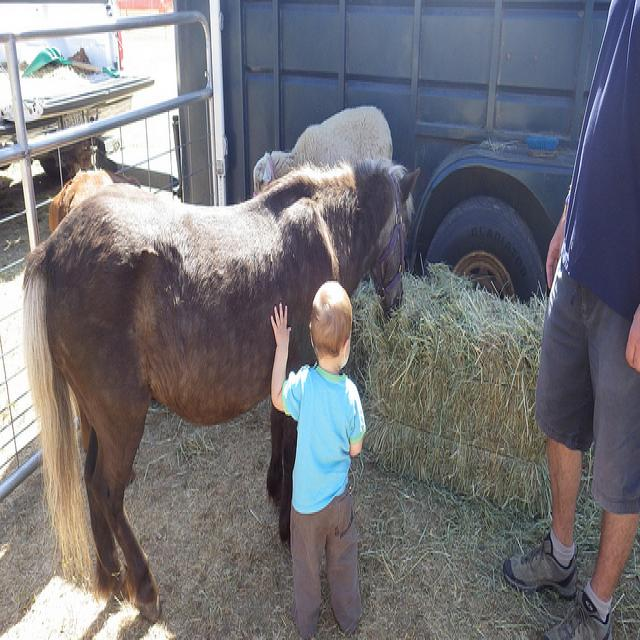Vehicle: (225, 5, 608, 292)
